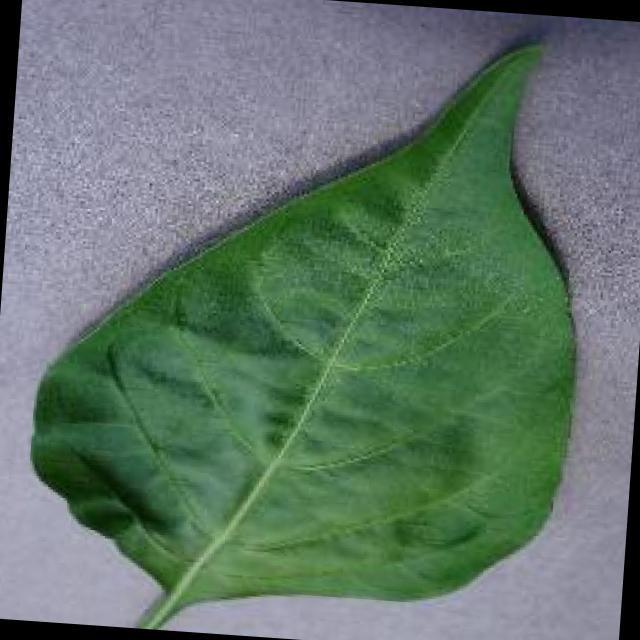Chilli_Healthy: (13, 3, 600, 640)
